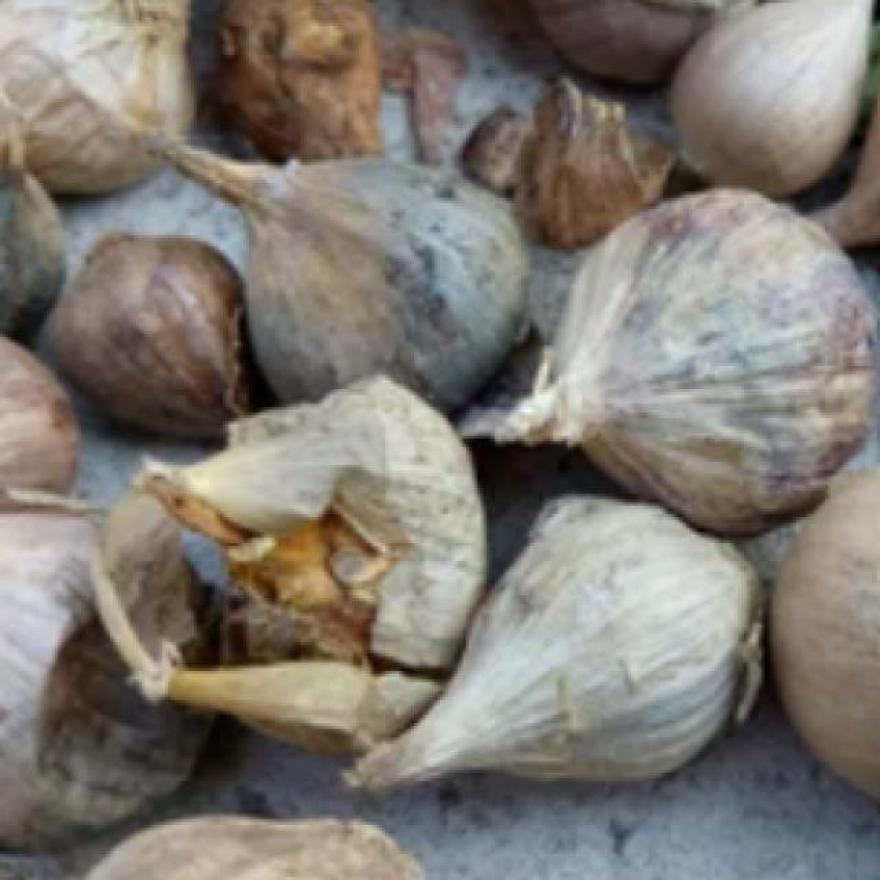Rotten: (200, 473, 373, 726), (272, 168, 495, 334)
